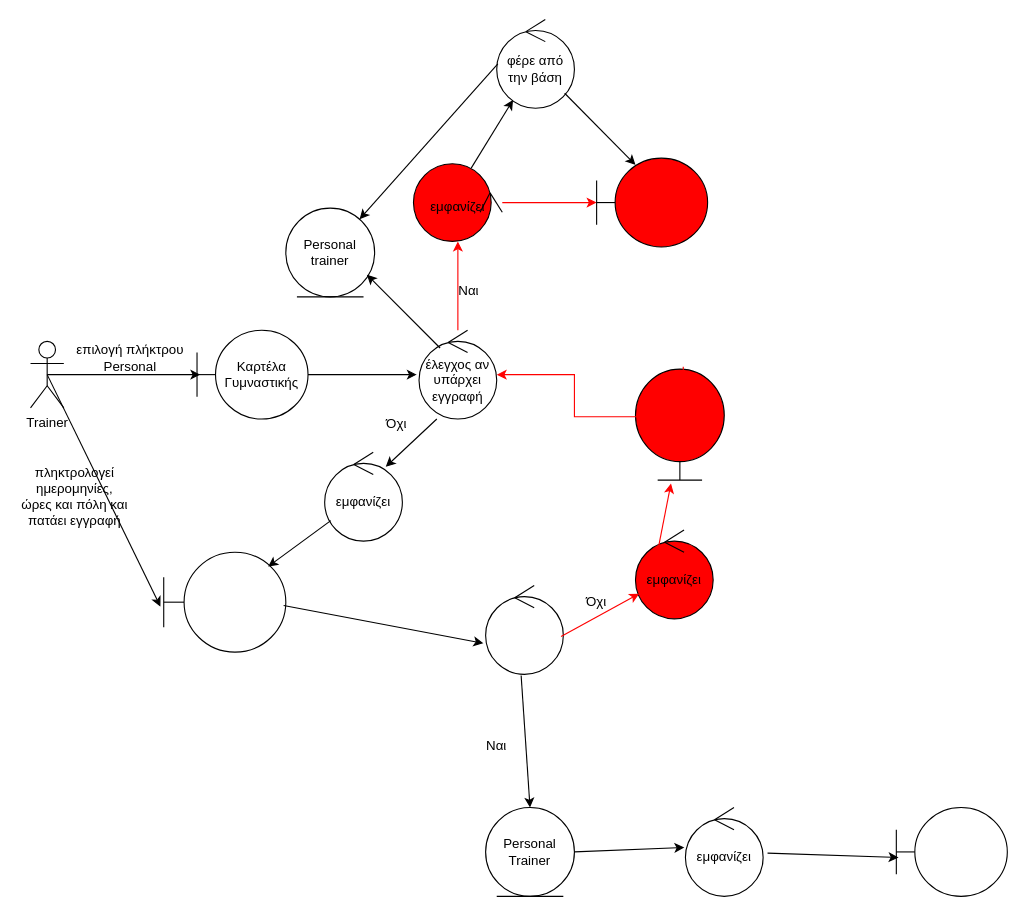
This 1027x916 diagram has some shape labels left out. Each missing label, with the centre of its shape:
"αποθηκεύει" belongs at (x=524, y=629).
"λίστα με τα ραντεβού του" belongs at (x=652, y=202).
"μήνυμα αποτυχημένης αποθήκευσης" belongs at (x=679, y=424).
"μήνυμα επιβεβαιωμένης εγγραφής" belongs at (x=951, y=851).
"οθόνη όπου συμπληρώνει ημερομηνίες, ώρες και πόλη" belongs at (x=224, y=601).
